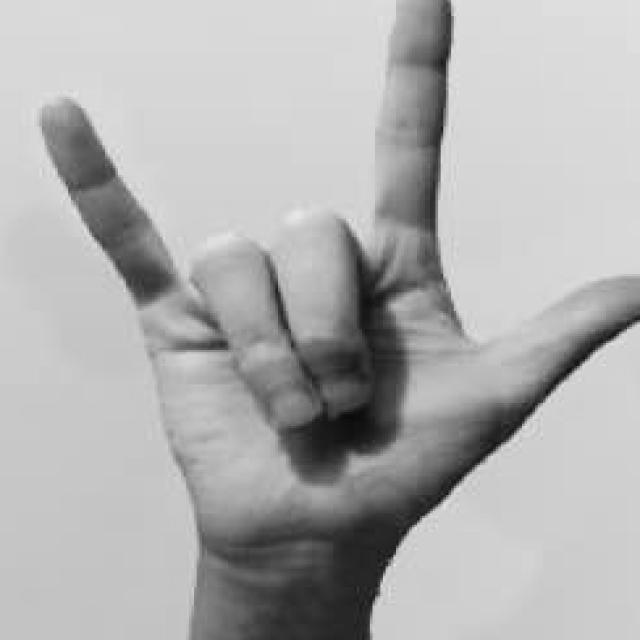i love you: (26, 0, 640, 585)
